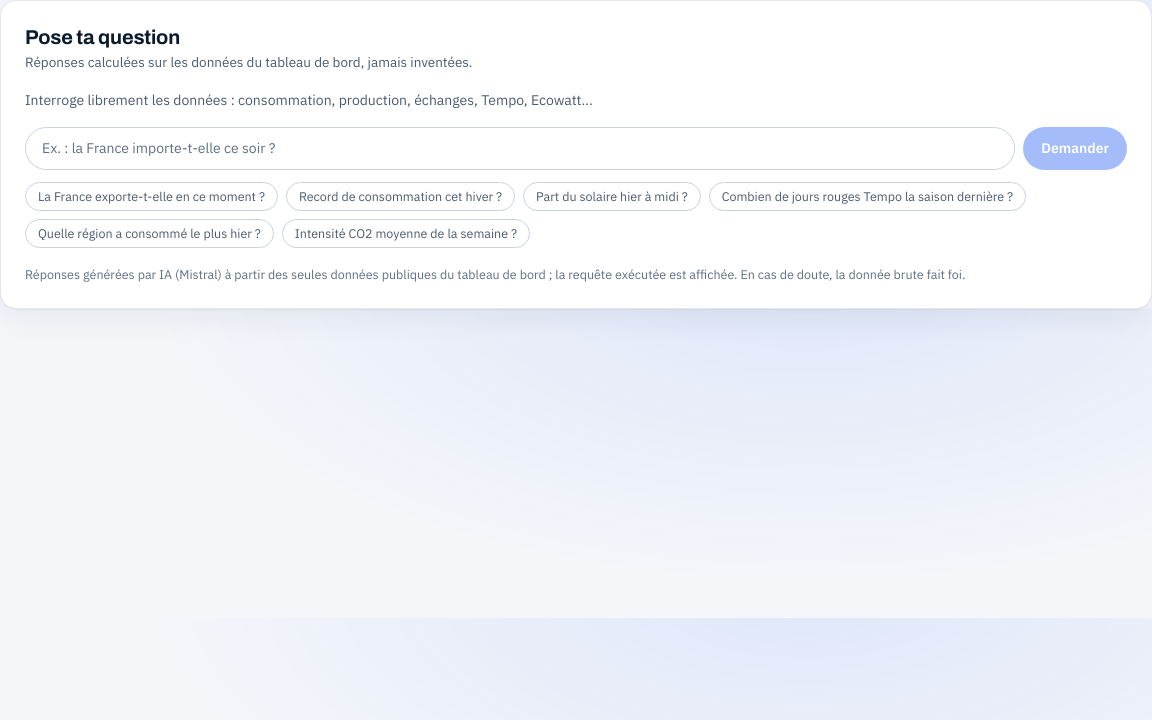
Test: ChatSection › une panne réseau donne un message honnête, jamais un silence
Type "Test ?" into the field named "Ta question" at (520, 149), box [25,127,1015,170]
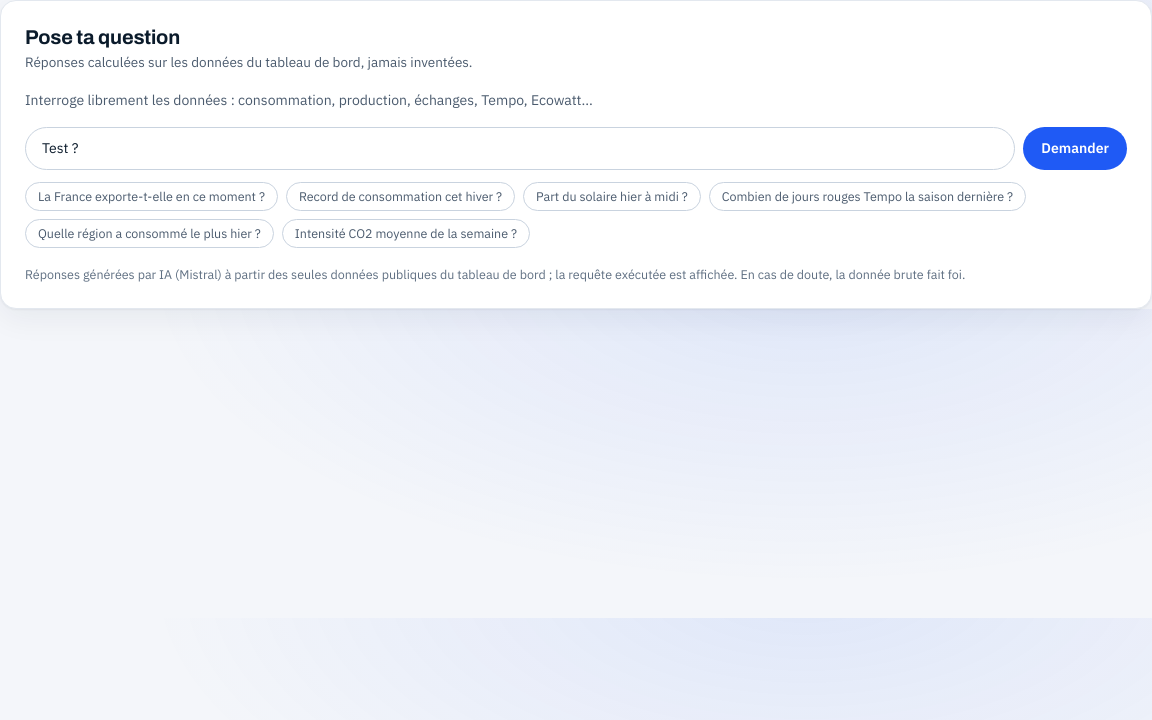
Click the button "Demander" at (1075, 149), box [1023,127,1127,170]
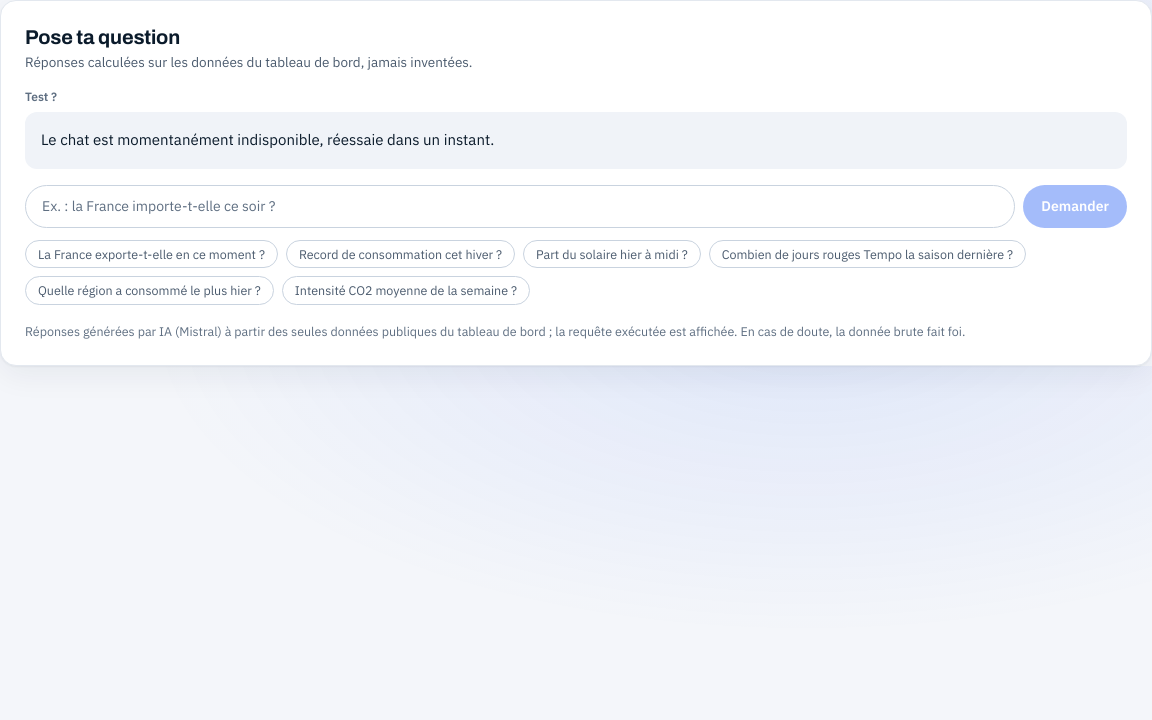
Now the text "Le chat est momentanément indisponible, réessaie dans un instant." is shown, box [41,130,494,149]
